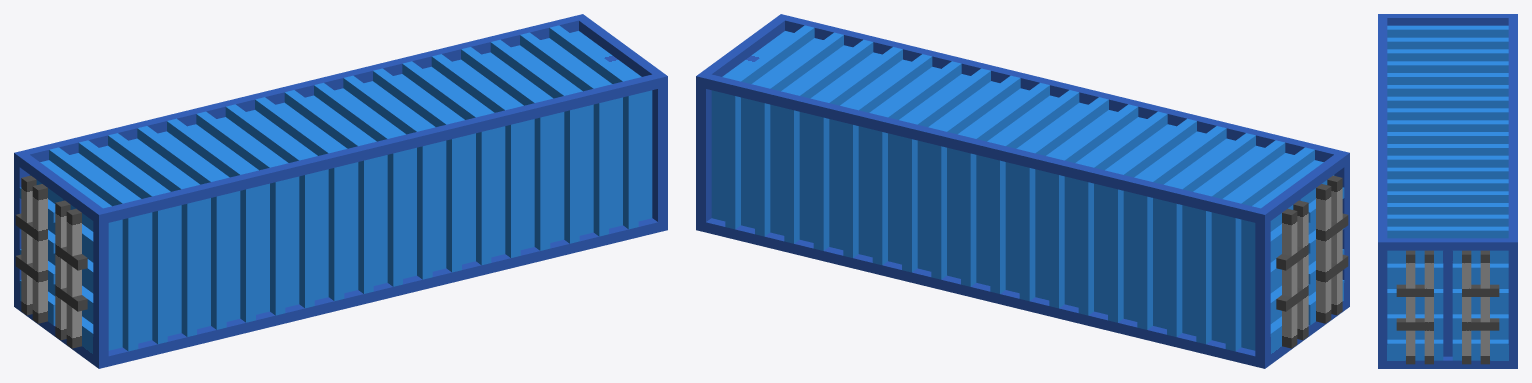
File: obj_container4.fbx
3 views of the same model, side by side, from view 1: azimuth 30°, elevation 25°; view 2: azimuth 150°, elevation 25°; view 3: azimuth 270°, elevation 25° (orthographic). The views are drawn at different scales.
Visible parts, largest first — view 1: obj_container4; view 2: obj_container4; view 3: obj_container4.
Boxes of the visible parts, left/top/right/bottom form: obj_container4: left=14, top=14, right=667, bottom=368; obj_container4: left=696, top=14, right=1349, bottom=368; obj_container4: left=1378, top=14, right=1517, bottom=368.
Size of the model in its own units: 6 by 1.5 by 1.5.
Materials: 1 (1 with a texture image).
